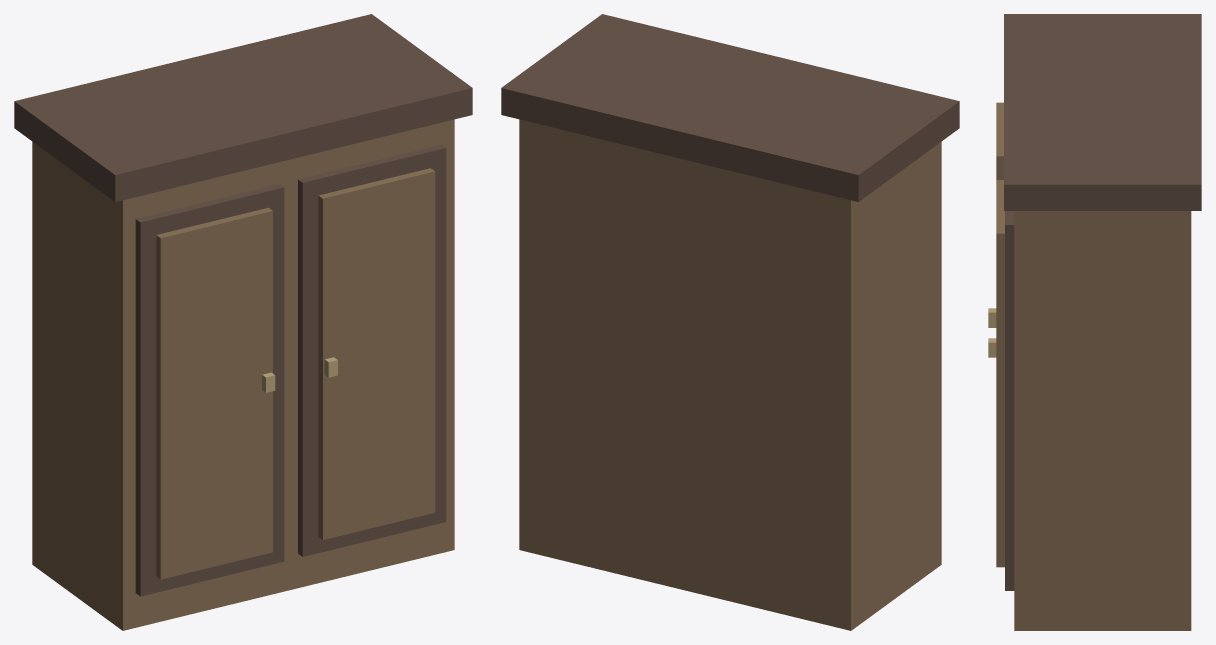
File: victorian_wardrobe_hero_pbr_orm.glb
3 renders of one model, left to right at view 1: azimuth 30°, elevation 25°; view 2: azimuth 150°, elevation 25°; view 3: azimuth 270°, elevation 25°, orthographic. The views are drawn at different scales.
Visible parts, largest first — view 1: geometry_0; view 2: geometry_0; view 3: geometry_0.
Part boxes in pixels (x1=…): geometry_0: x1=14, y1=14, x2=472, y2=630; geometry_0: x1=501, y1=14, x2=959, y2=630; geometry_0: x1=988, y1=14, x2=1201, y2=630.
Size of the model in its own units: 1.94 by 2.4 by 1.03.
